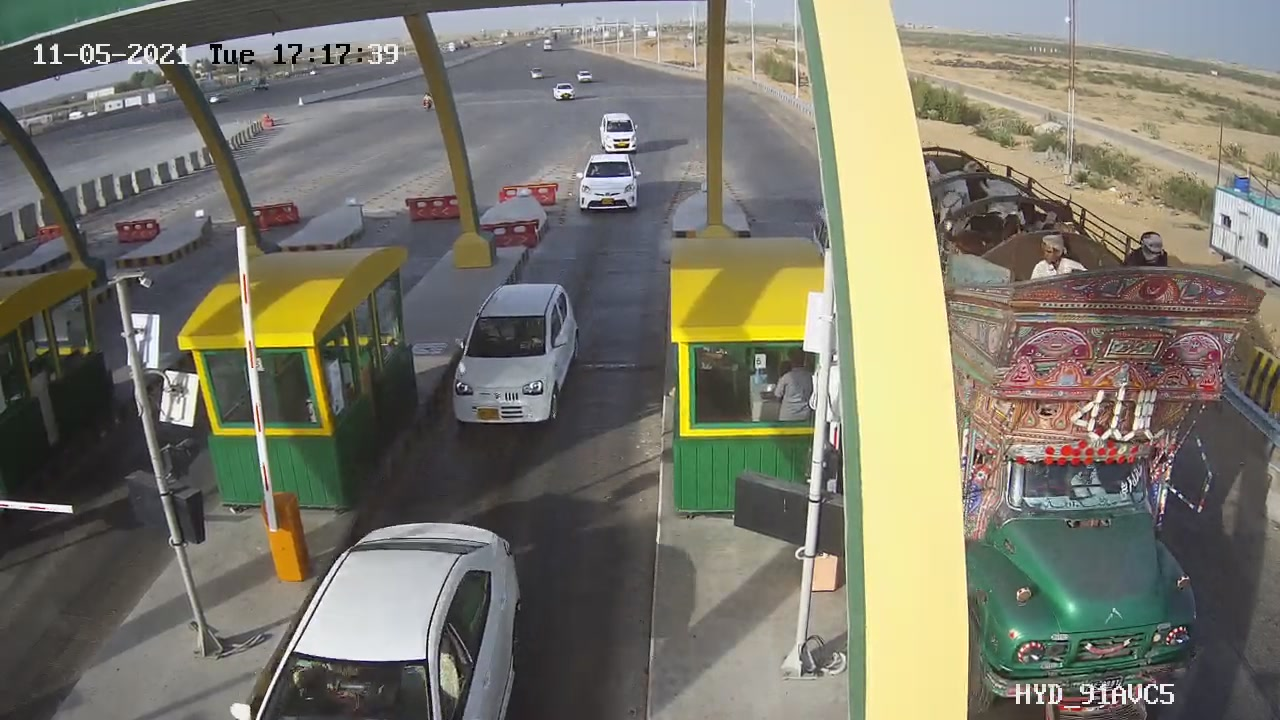F1: (439, 268, 591, 443)
